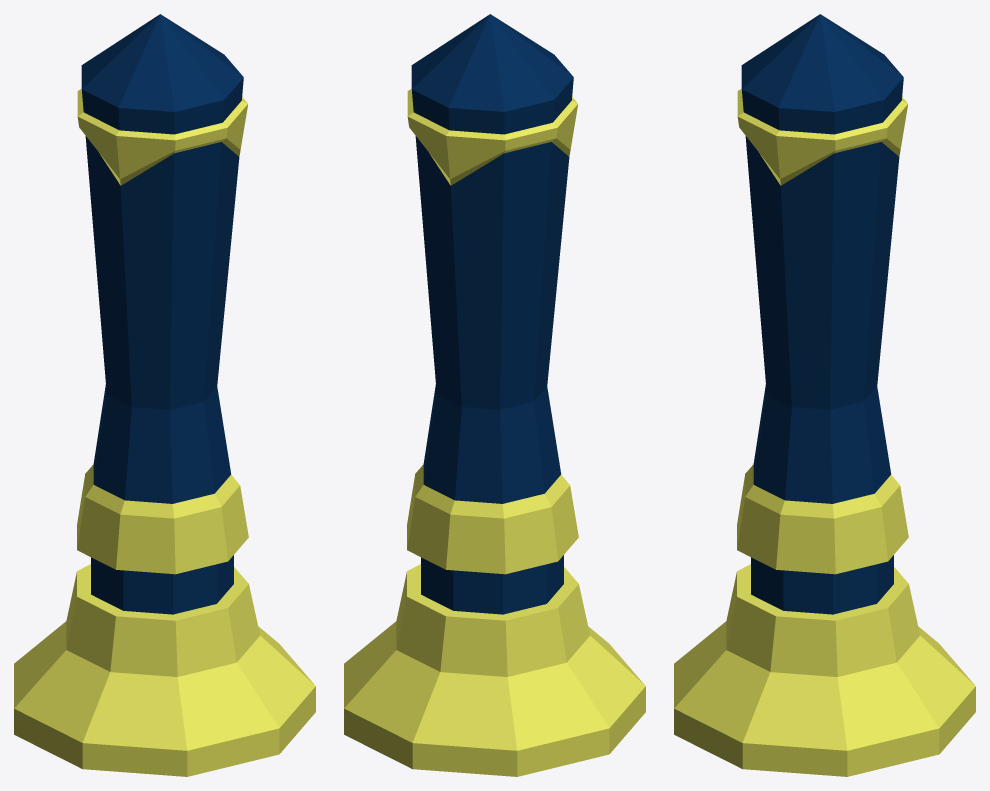
Rendered from seal.glb.
The picture shows the model from 3 angles, left to right: view 1: azimuth 30°, elevation 25°; view 2: azimuth 150°, elevation 25°; view 3: azimuth 270°, elevation 25°; orthographic projection.
Parts seen in each view (by area): view 1: Circle; view 2: Circle; view 3: Circle.
Part boxes in pixels (x1=…): Circle: x1=14, y1=14, x2=315, y2=776; Circle: x1=344, y1=14, x2=645, y2=776; Circle: x1=674, y1=14, x2=975, y2=776.
Bounding box in the file's own units: 1.97 × 4.95 × 1.94.
